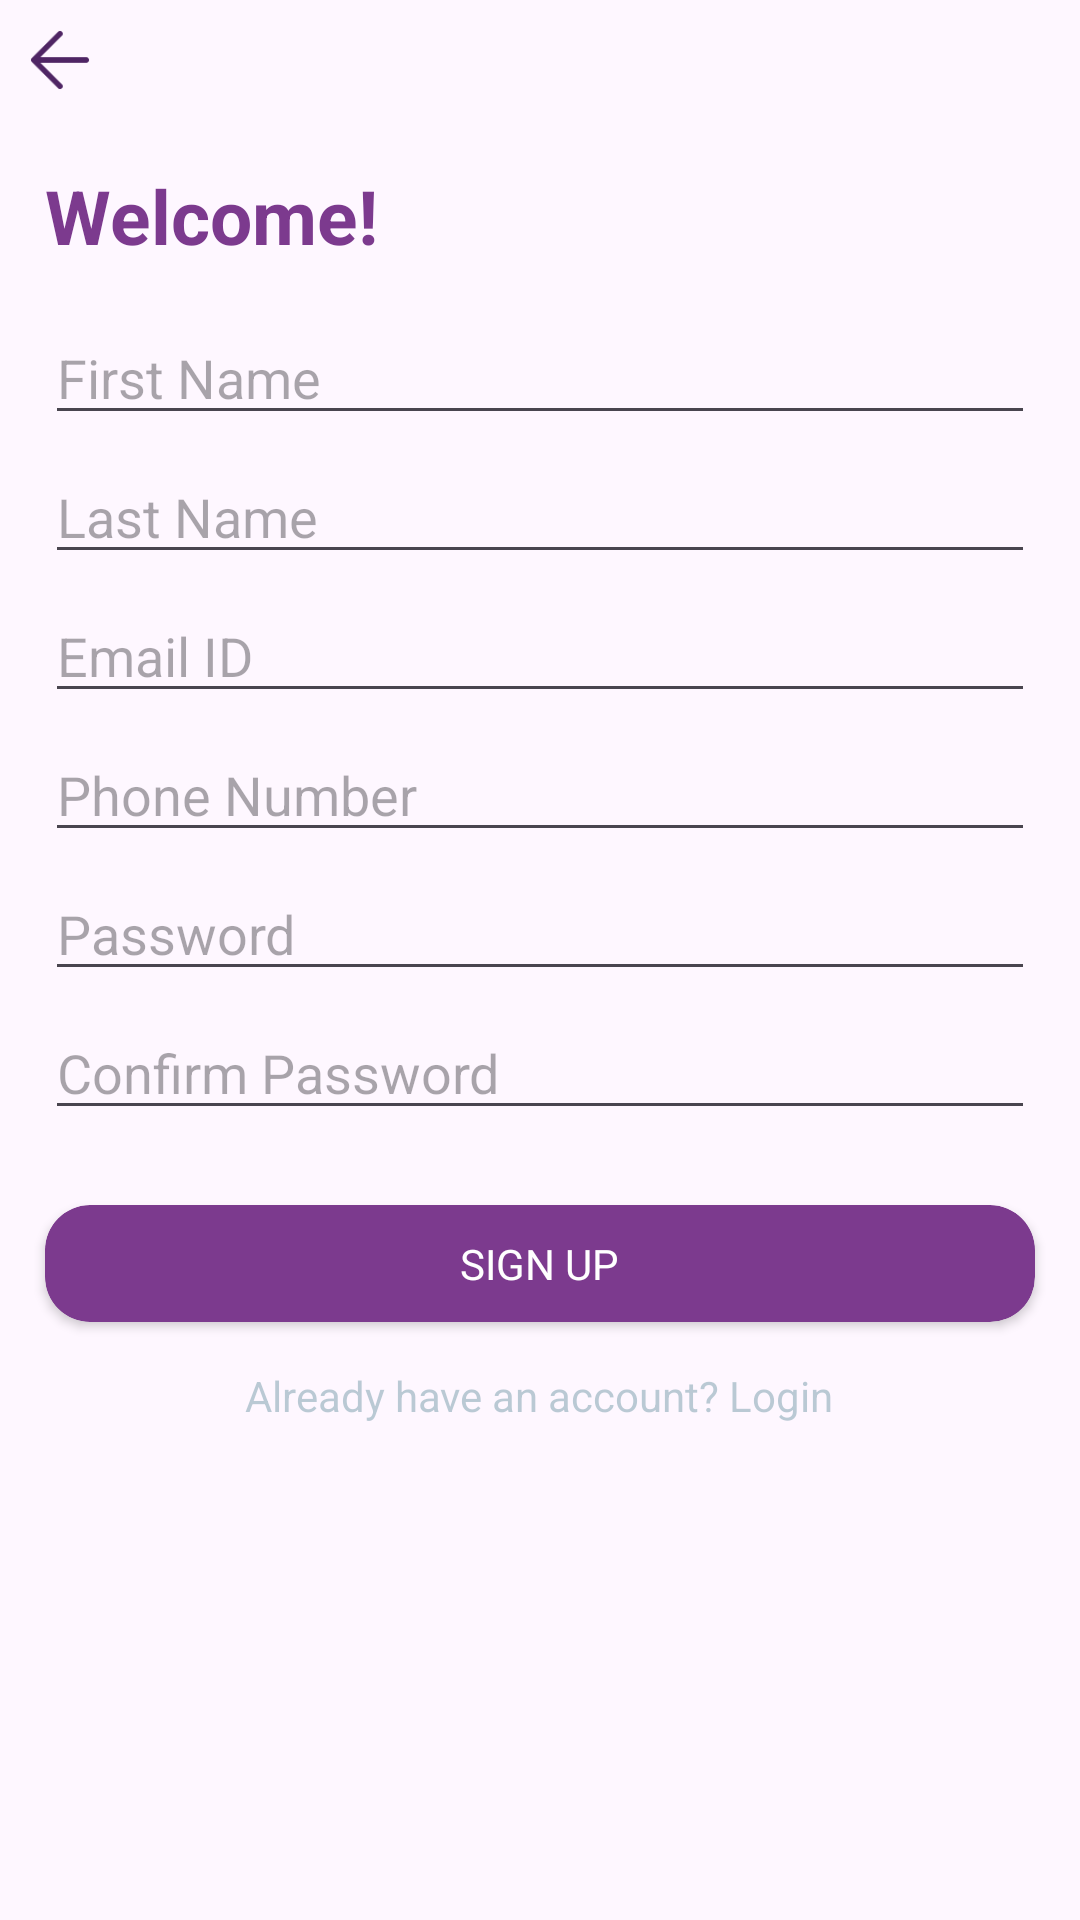

Locate icon controls on the screen. Image size 1080*1920, boxes as (x1, y1, x2, y2).
arrow back: (31, 31, 89, 89)
